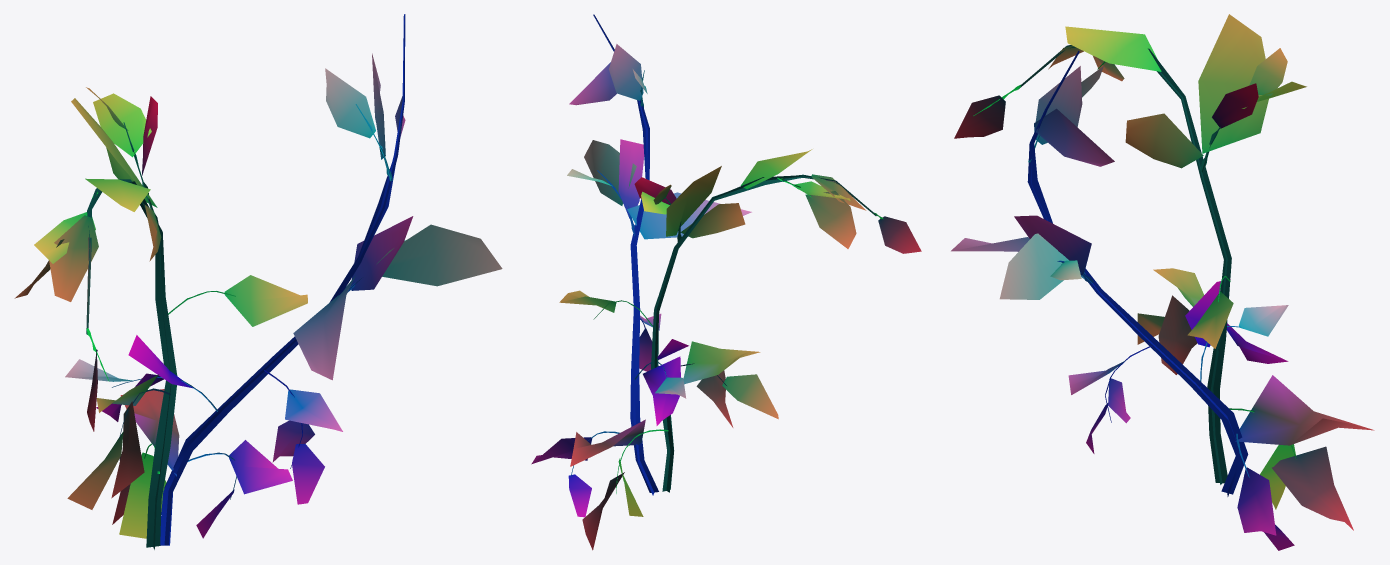
Rendered from Creeping_Saltbush_thckfiqr_Mid_thckfiqr_VarD_LOD0.fbx.
3 views of the same model, side by side, from view 1: azimuth 30°, elevation 25°; view 2: azimuth 150°, elevation 25°; view 3: azimuth 270°, elevation 25° (orthographic). The views are drawn at different scales.
Visible parts, largest first — view 1: _7285_VarD_LOD1; view 2: _7285_VarD_LOD1; view 3: _7285_VarD_LOD1.
Part boxes in pixels (x1,y1,x2,y2): _7285_VarD_LOD1: (14, 14, 502, 549); _7285_VarD_LOD1: (531, 14, 921, 550); _7285_VarD_LOD1: (951, 14, 1374, 550).
Bounding box in the file's own units: 26.47 × 34.09 × 24.01.
